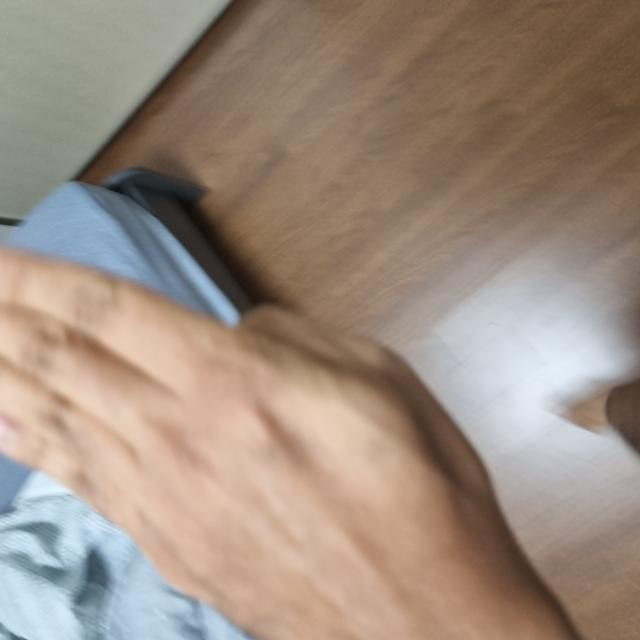Paper: (0, 0, 385, 483)
